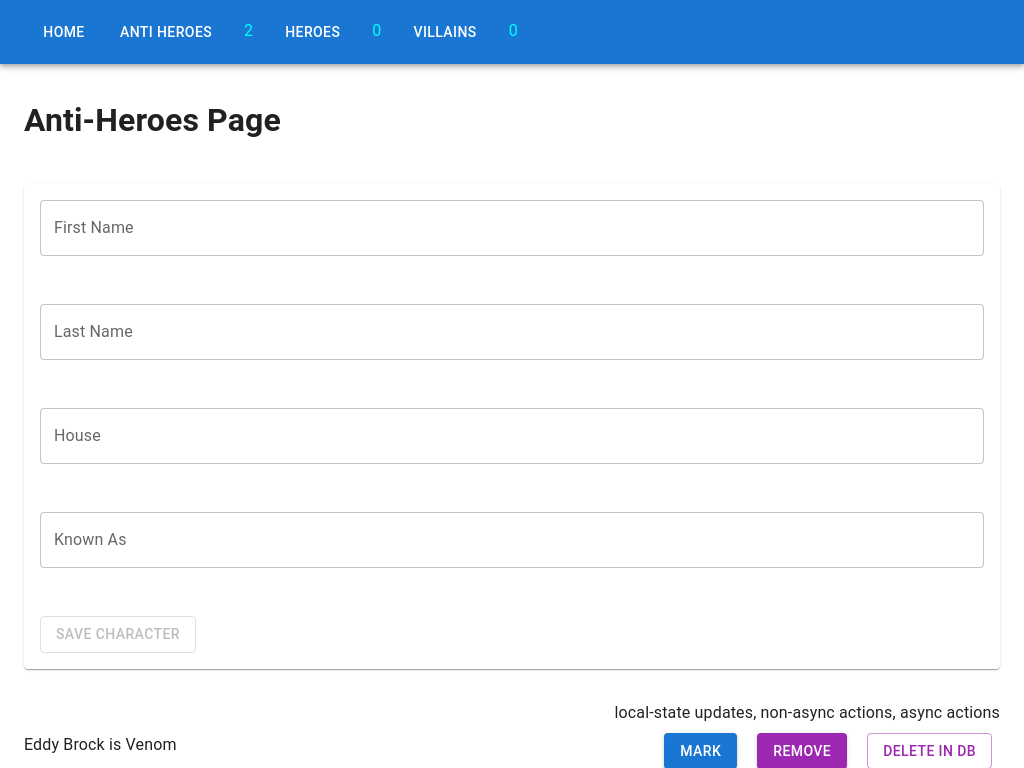
Test: Anti Heroes Page › should remove an anti hero from the store
This screenshot has width=1024, height=768.
Click the button with test id "remove-button" at [802, 751], box x1=757 y1=732 x2=847 y2=767
(page scrolled)
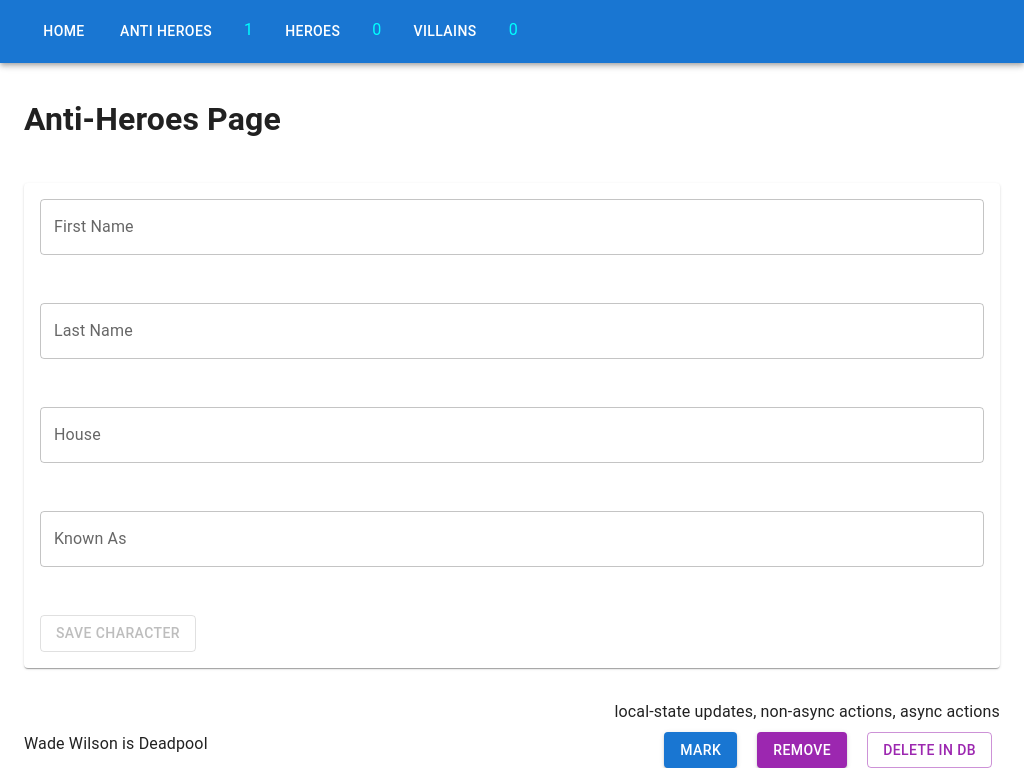
expect the element with test id "card" is shown: met, box x1=24 y1=732 x2=1000 y2=767
expect the text with test id "total-anti-heroes" reads "1": met, box x1=244 y1=20 x2=253 y2=39
